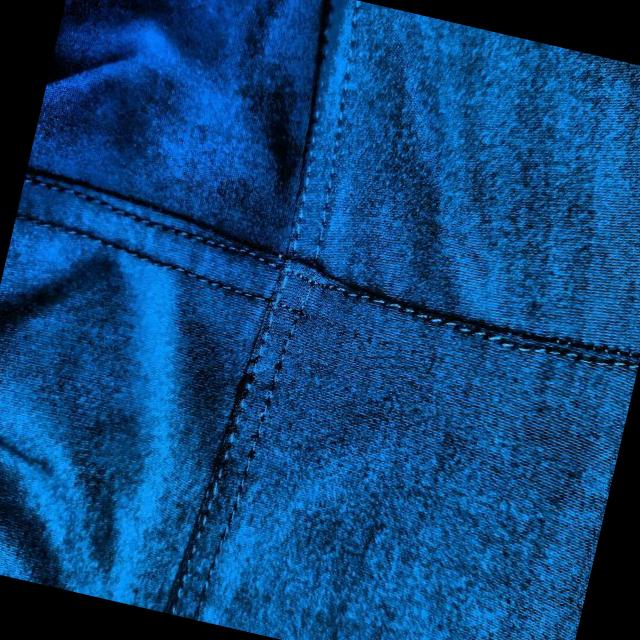gray stitch: (261, 238, 640, 464)
